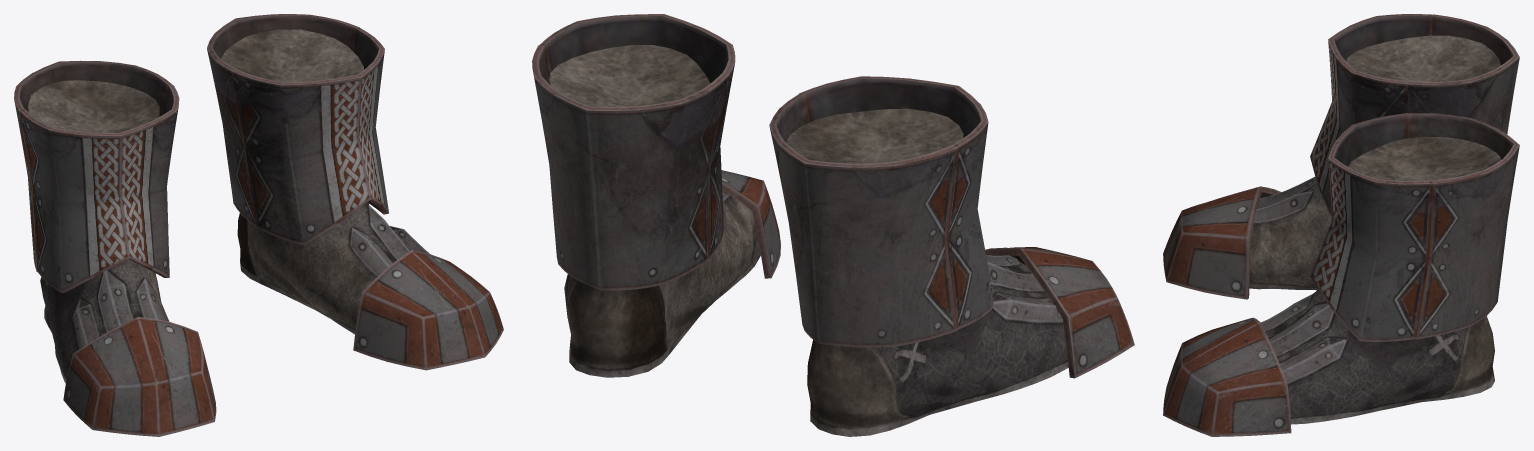
The model's file is sk_dwarf_iron_boots_heavy_c2.fbx.
3 renders of one model, left to right at view 1: azimuth 30°, elevation 25°; view 2: azimuth 150°, elevation 25°; view 3: azimuth 270°, elevation 25°, orthographic. The views are drawn at different scales.
Parts seen in each view (by area): view 1: sk_dwarf_iron_boots_heavy_c2; view 2: sk_dwarf_iron_boots_heavy_c2; view 3: sk_dwarf_iron_boots_heavy_c2.
Boxes of the visible parts, left/top/right/bottom form: sk_dwarf_iron_boots_heavy_c2: left=14, top=14, right=503, bottom=436; sk_dwarf_iron_boots_heavy_c2: left=532, top=14, right=1134, bottom=436; sk_dwarf_iron_boots_heavy_c2: left=1163, top=14, right=1519, bottom=436.
Bounding box in the file's own units: 0.5801 × 0.4277 × 0.3159.
Materials: 1 (1 with a texture image).
